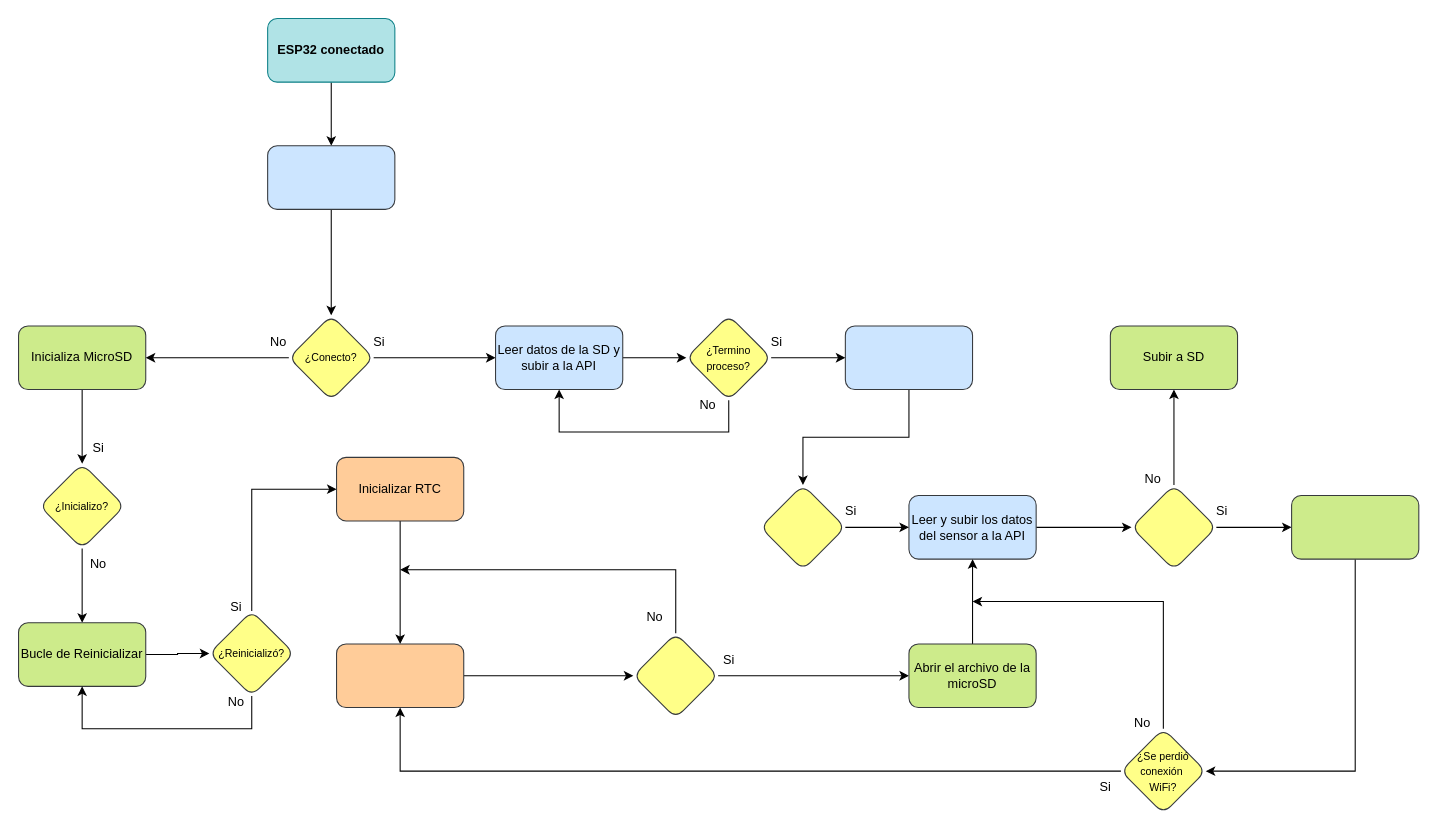
The diagram is 1437 pixels wide and 832 high, and some of its shapes have lost their labels. Here are the shapes that lost their labels. From the top down, the box of each, then its label:
(267, 145, 395, 209): Conectar a Wifi
(844, 325, 973, 390): Obtener fecha y hora de una API
(759, 484, 845, 570): ¿Lo obtuvo?
(1130, 484, 1216, 570): ¿Se subió correctamente?
(1291, 494, 1419, 559): Borrar esos datos de la microSD
(335, 643, 464, 708): Leer y guardar datos del sensor con fecha del RTC en microSD
(632, 632, 718, 718): ¿se conecto a Wi-Fi?
